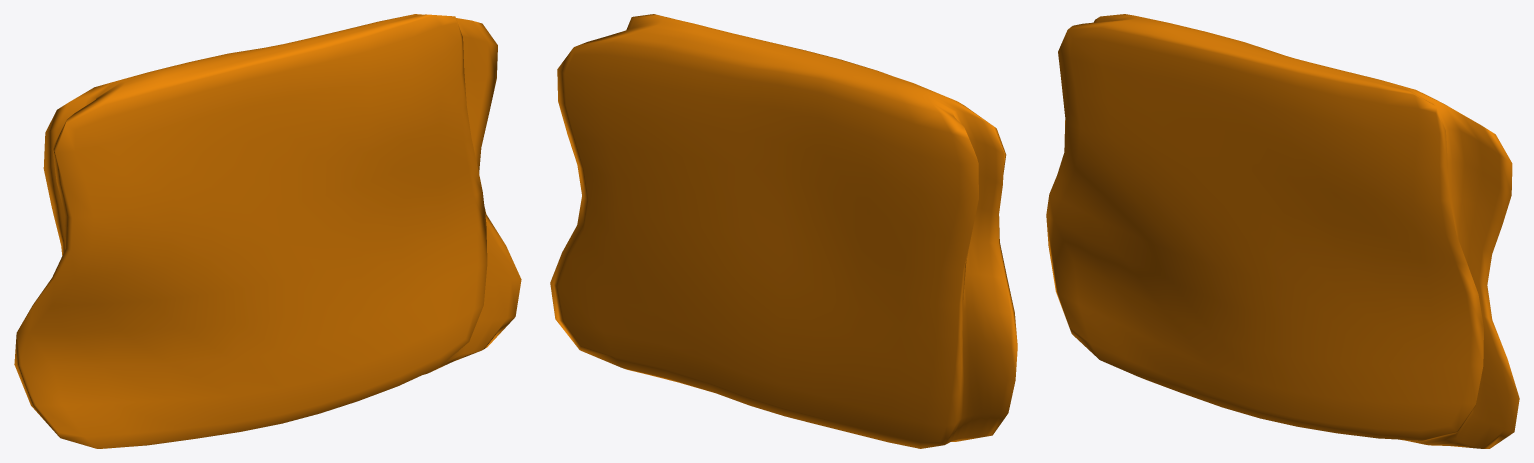
The model's file is door_exit.fbx.
3 views of the same model, side by side, from view 1: azimuth 30°, elevation 25°; view 2: azimuth 150°, elevation 25°; view 3: azimuth 330°, elevation 25° (orthographic). The views are drawn at different scales.
Visible parts, largest first — view 1: Cube.269; view 2: Cube.269; view 3: Cube.269.
Boxes of the visible parts, left/top/right/bottom form: Cube.269: left=14, top=14, right=521, bottom=448; Cube.269: left=550, top=14, right=1017, bottom=448; Cube.269: left=1046, top=14, right=1519, bottom=448.
Bounding box in the file's own units: 5.29 × 3.79 × 0.6759.
